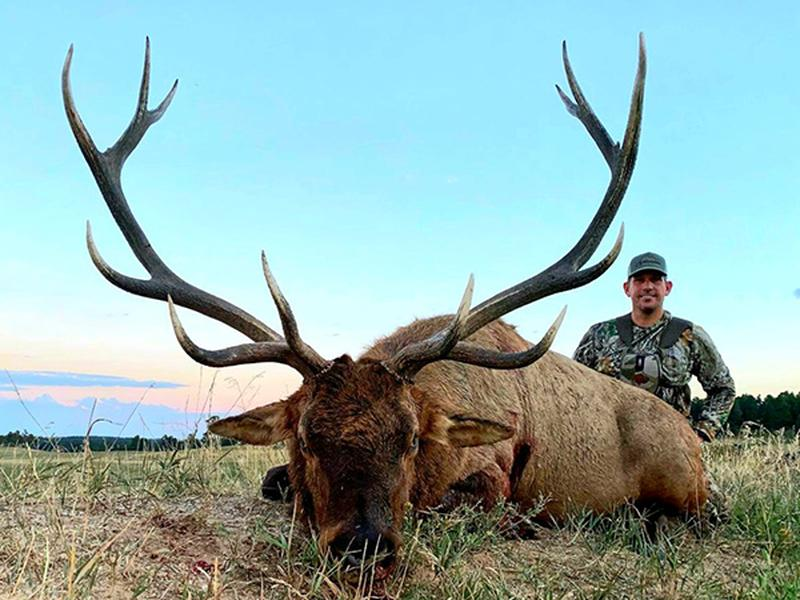elk: (98, 199, 714, 561)
